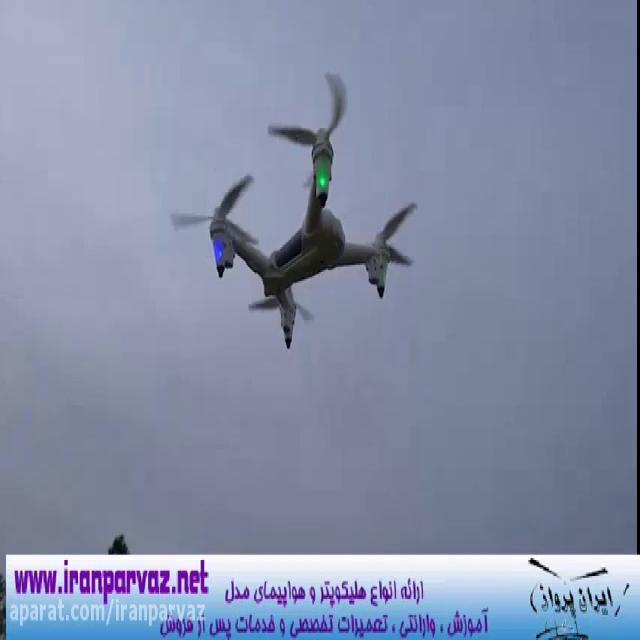drone: (168, 66, 421, 350)
